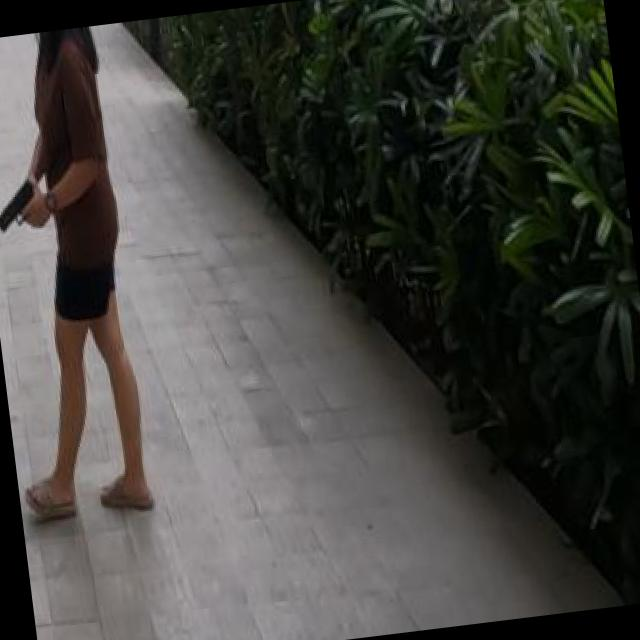Guns: (0, 174, 51, 241)
